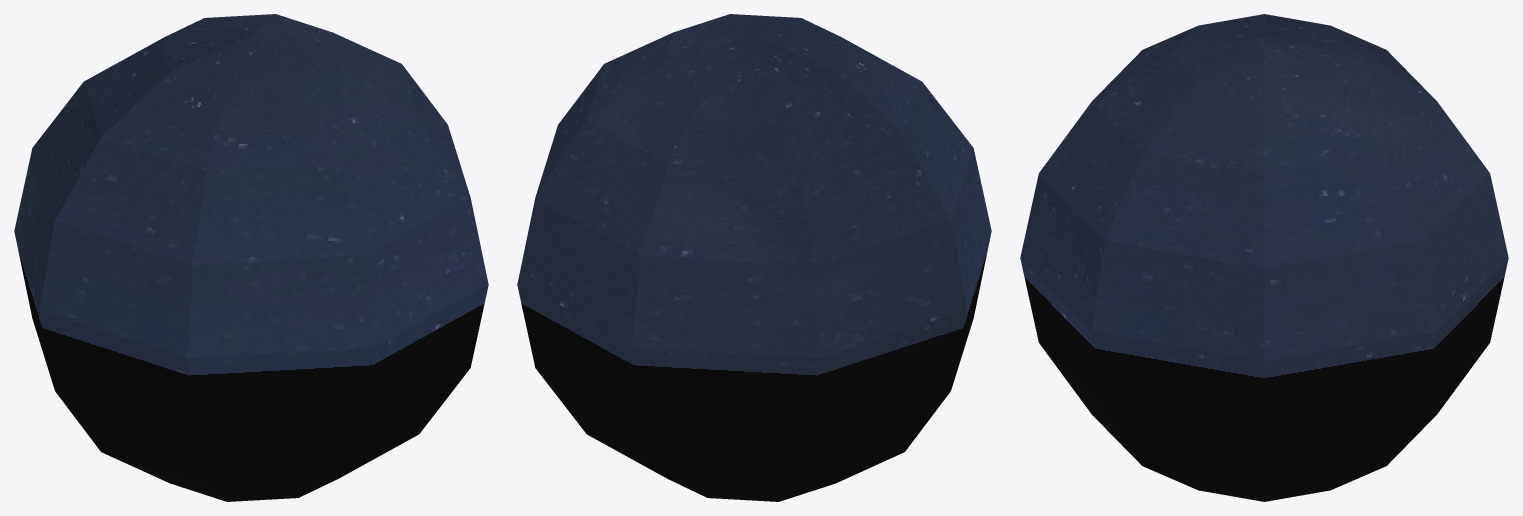
Rendered from locationtest2.glb.
3 renders of one model, left to right at view 1: azimuth 30°, elevation 25°; view 2: azimuth 150°, elevation 25°; view 3: azimuth 270°, elevation 25°, orthographic.
Parts seen in each view (by area): view 1: Sphere_142; view 2: Sphere_142; view 3: Sphere_142.
Part boxes in pixels (x1,y1,x2,y2): Sphere_142: (14,14,488,501); Sphere_142: (517,14,991,501); Sphere_142: (1020,14,1508,501).
Bounding box in the file's own units: 27.54 × 27.54 × 27.54.
3 materials, 3 textured.
